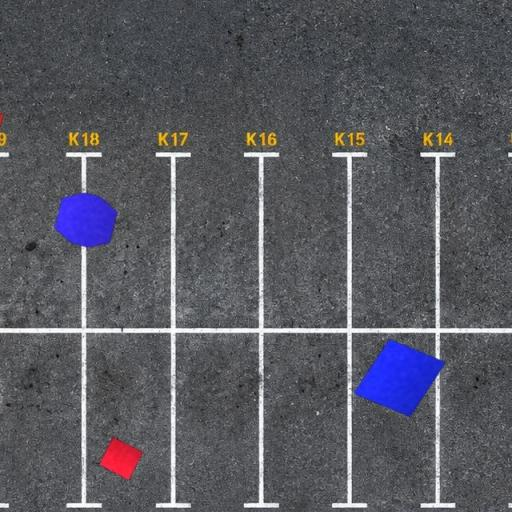BLUE_SQUARE: (353, 338, 447, 418)
RED_SQUARE: (98, 436, 144, 482)
